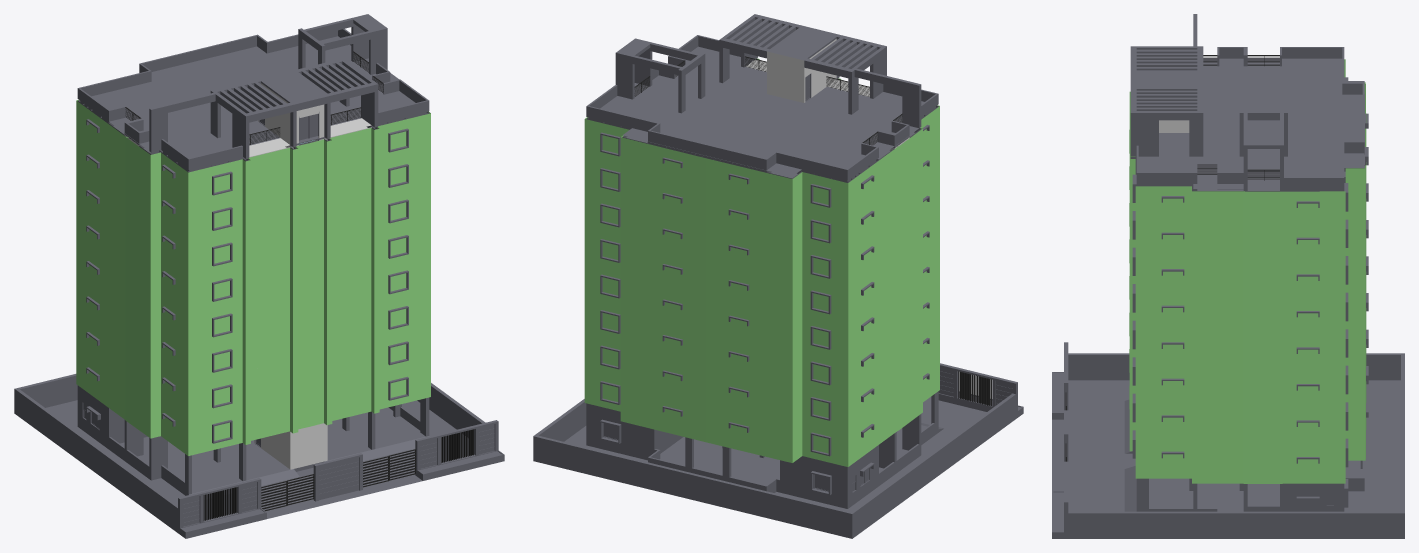
Rendered from vartest_01.glb.
3 views of the same model, side by side, from view 1: azimuth 30°, elevation 25°; view 2: azimuth 150°, elevation 25°; view 3: azimuth 270°, elevation 25° (orthographic). The views are drawn at different scales.
Visible parts, largest first — view 1: All_Building, Mesh_030, Mesh_026, Mesh_06, Mesh_022, Mesh_010, Mesh_02, Mesh_014, Mesh_018, Mesh_029, Mesh_09, Mesh_013 (+13 smaller); view 2: All_Building, Mesh_031, Mesh_03, Mesh_015, Mesh_011, Mesh_07, Mesh_027, Mesh_023, Mesh_019, Mesh_032, Mesh_024, Mesh_016 (+13 smaller); view 3: All_Building, Mesh_08, Mesh_016, Mesh_024, Mesh_032, Mesh_028, Mesh_020, Mesh_012, Mesh_04, Mesh_029, Mesh_05, Mesh_013 (+5 smaller).
Part boxes in pixels (<box>): All_Building: <box>14,14,504,538</box>; Mesh_030: <box>125,137,309,207</box>; Mesh_026: <box>125,172,309,243</box>; Mesh_06: <box>125,350,309,420</box>; Mesh_022: <box>125,208,309,278</box>; Mesh_010: <box>125,314,309,385</box>; Mesh_02: <box>125,385,309,455</box>; Mesh_014: <box>125,279,309,349</box>; Mesh_018: <box>125,243,309,314</box>; Mesh_029: <box>310,111,430,178</box>; Mesh_09: <box>310,290,430,355</box>; Mesh_013: <box>310,255,430,320</box>; All_Building: <box>533,14,1023,538</box>; Mesh_031: <box>706,146,898,218</box>; Mesh_03: <box>706,395,898,466</box>; Mesh_015: <box>706,289,898,360</box>; Mesh_011: <box>706,324,898,395</box>; Mesh_07: <box>706,360,898,431</box>; Mesh_027: <box>706,182,898,253</box>; Mesh_023: <box>706,218,898,289</box>; Mesh_019: <box>706,253,898,324</box>; Mesh_032: <box>584,117,706,193</box>; Mesh_024: <box>584,190,706,264</box>; Mesh_016: <box>584,261,706,335</box>; All_Building: <box>1052,14,1404,538</box>; Mesh_08: <box>1243,357,1366,447</box>; Mesh_016: <box>1243,284,1366,374</box>; Mesh_024: <box>1243,211,1366,301</box>; Mesh_032: <box>1243,138,1366,228</box>; Mesh_028: <box>1243,174,1366,264</box>; Mesh_020: <box>1243,247,1366,337</box>; Mesh_012: <box>1243,320,1366,410</box>; Mesh_04: <box>1243,393,1366,483</box>; Mesh_029: <box>1129,132,1244,227</box>; Mesh_05: <box>1129,378,1243,447</box>; Mesh_013: <box>1129,305,1243,373</box>.
Size of the model in its own units: 113 by 125 by 105.
